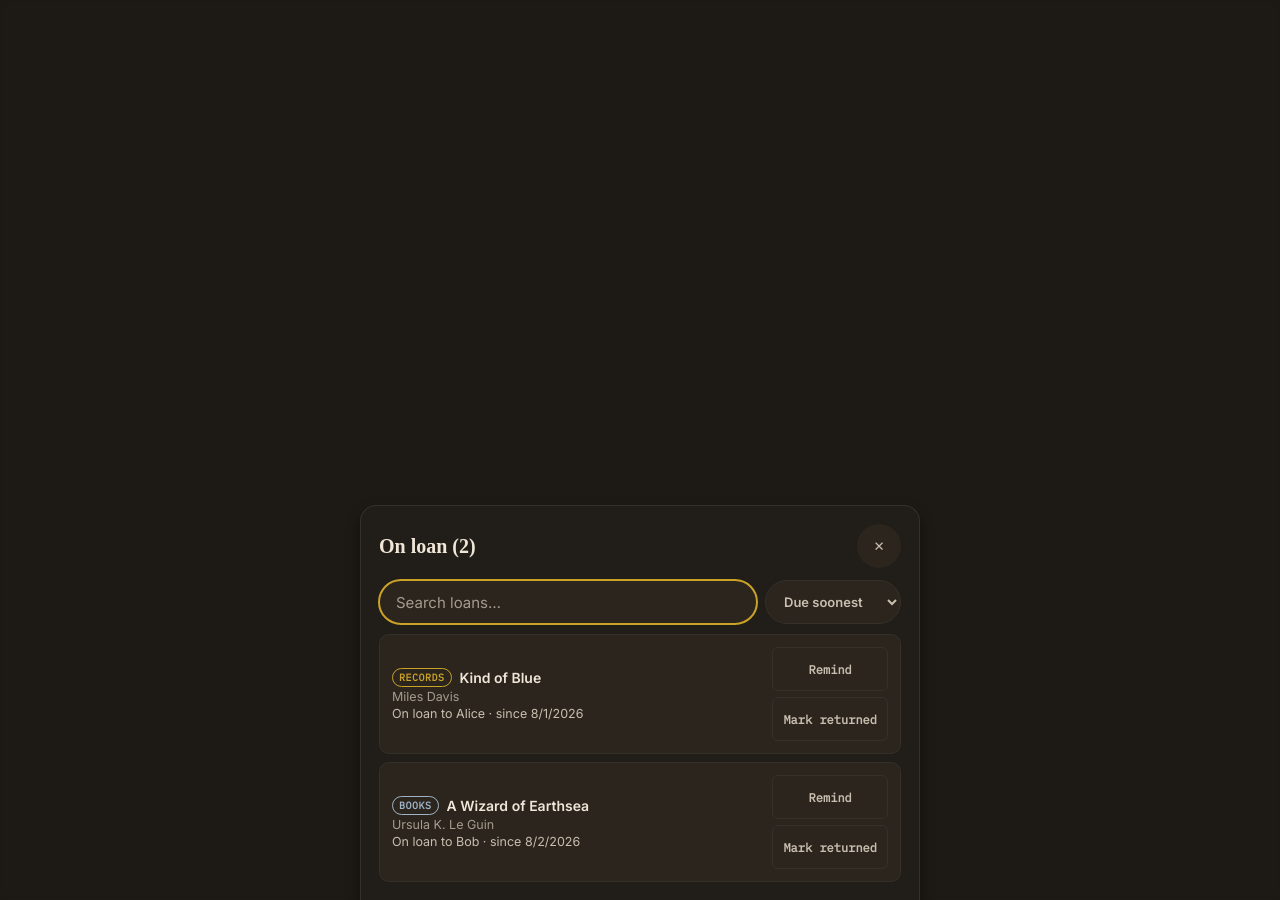
LoansDashboard (W7) › filters by title, artist, and borrower case-insensitively
expect the text "A Wizard of Earthsea" is shown: met, box [446, 796, 589, 814]
Title (case-insensitive).
Type "MILES" into the search field labelled "Search loans…" at (568, 602), box [379, 580, 757, 624]
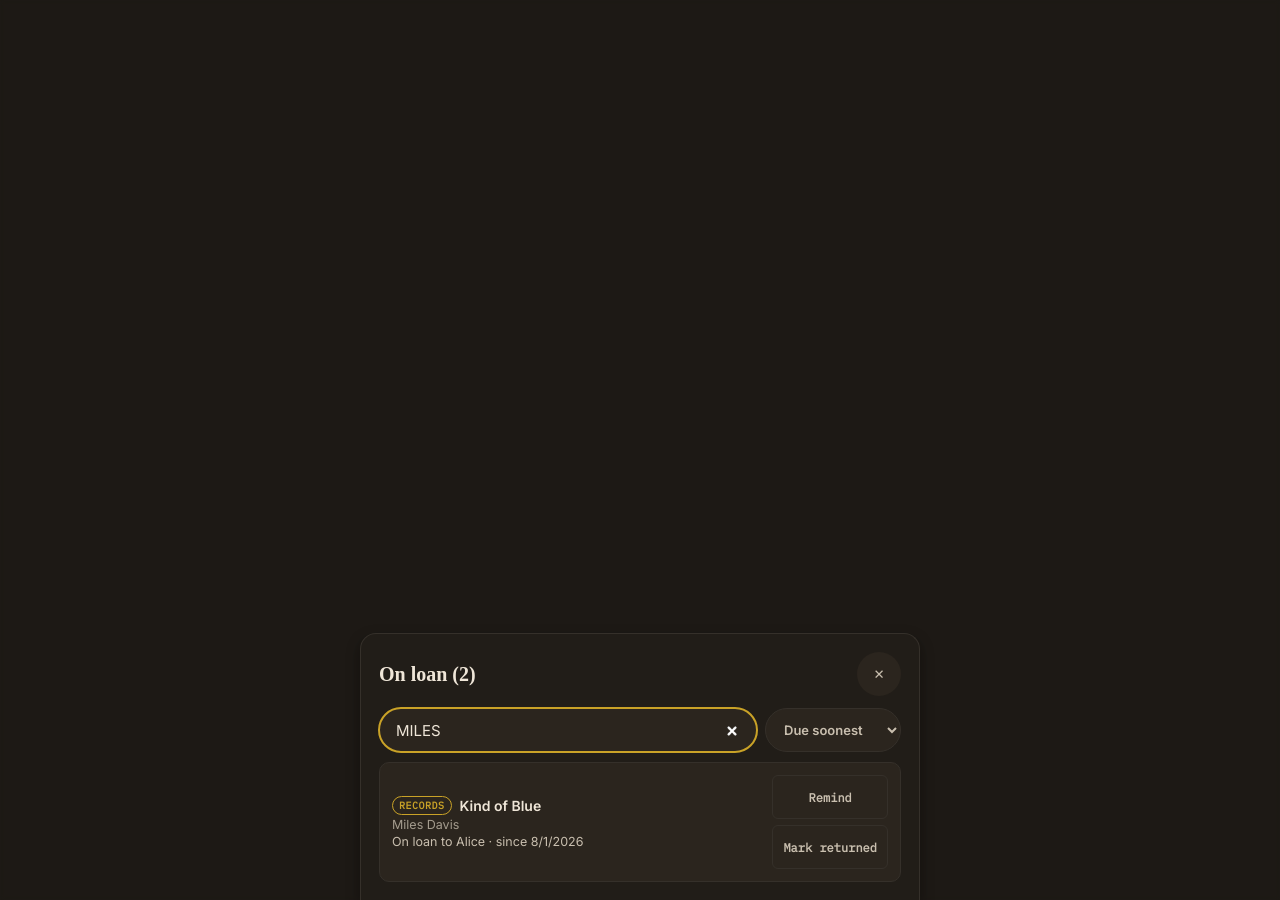
expect the text "Kind of Blue" is shown: met, box [460, 796, 541, 814]
expect the text "A Wizard of Earthsea" is gone: met
Artist name.
Replace the text in the search field named "Search loans…" with "le guin" at (568, 730), box [379, 708, 757, 752]
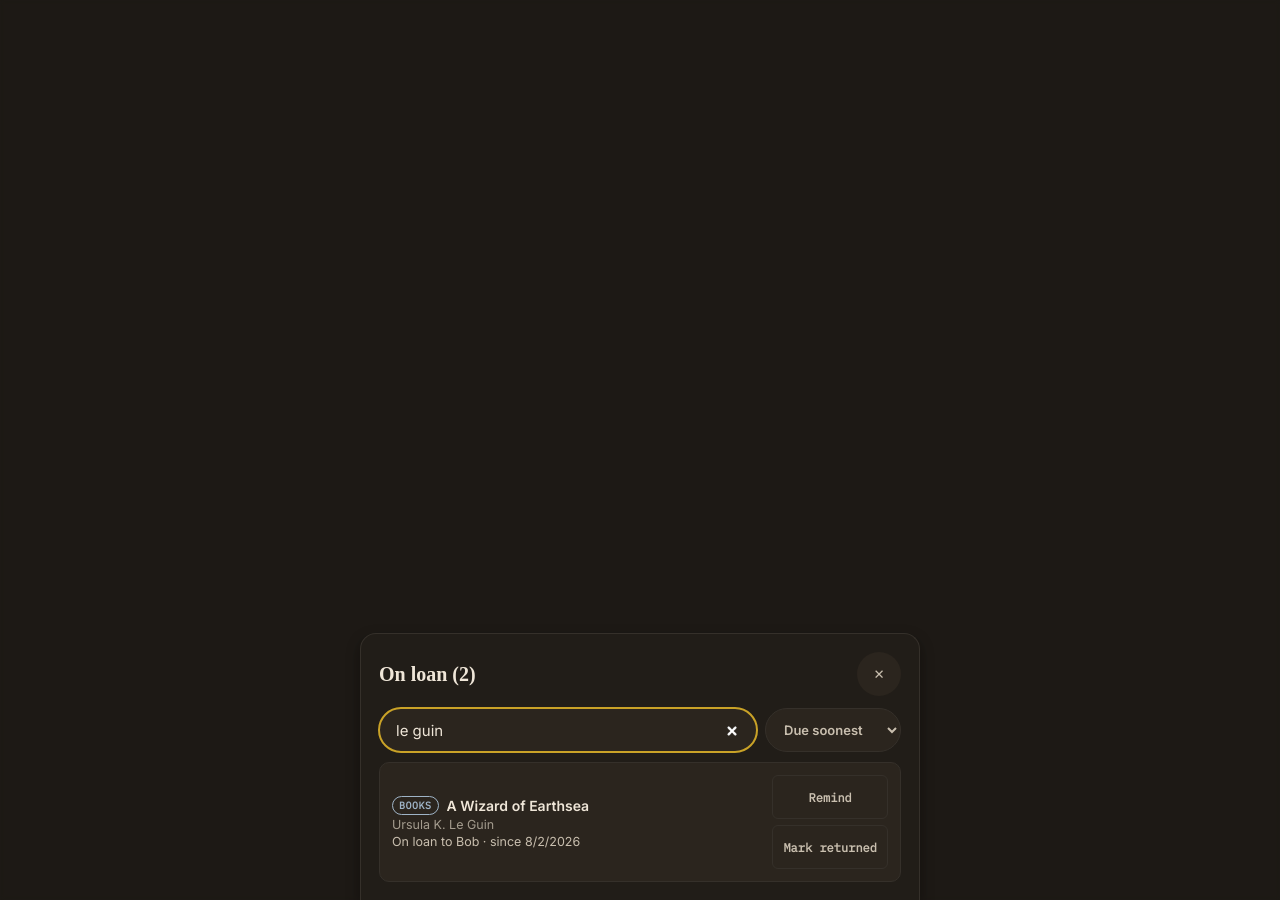
expect the text "A Wizard of Earthsea" is shown: met, box [446, 796, 589, 814]
expect the text "Kind of Blue" is gone: met
Borrower name.
Replace the text in the search field named "Search loans…" with "alice" at (568, 730), box [379, 708, 757, 752]
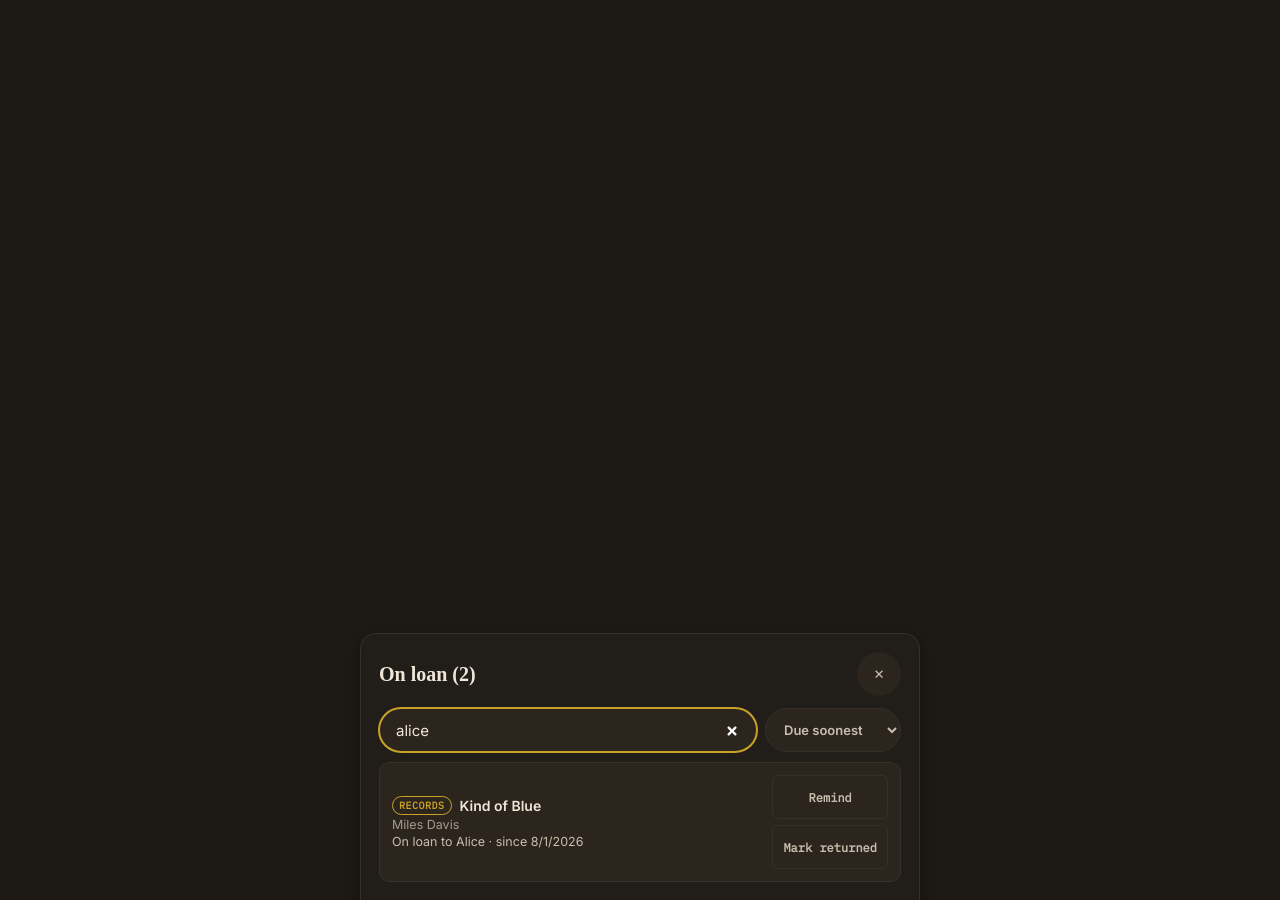
expect the text "Kind of Blue" is shown: met, box [460, 796, 541, 814]
expect the text "A Wizard of Earthsea" is gone: met
